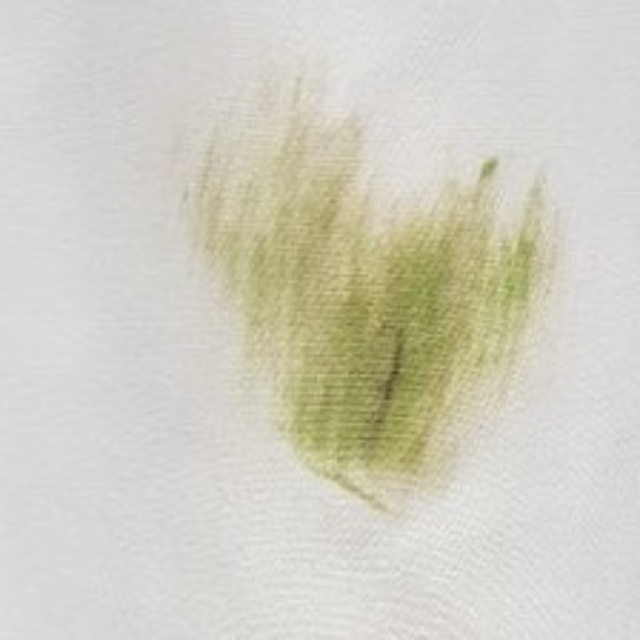earth: (189, 111, 558, 512)
